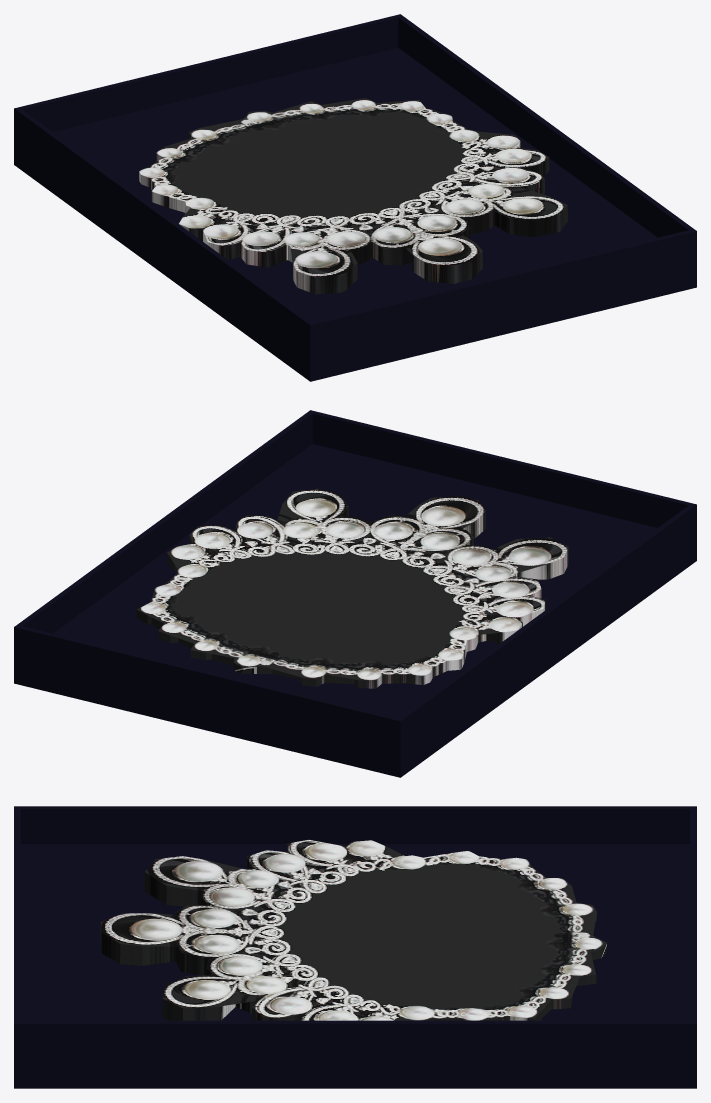
File: jewelry02.FBX
3 views of the same model, one above another, from view 1: azimuth 30°, elevation 25°; view 2: azimuth 150°, elevation 25°; view 3: azimuth 270°, elevation 25° (orthographic). The views are drawn at different scales.
Parts seen in each view (by area): view 1: Box001, Line002; view 2: Box001, Line002; view 3: Box001, Line002.
Boxes of the visible parts, x1,y1,x2,y2 form: Box001: [14, 14, 696, 381]; Line002: [139, 98, 567, 294]; Box001: [14, 410, 696, 777]; Line002: [136, 488, 568, 688]; Box001: [14, 806, 696, 1088]; Line002: [100, 840, 606, 1020].
Size of the model in its own units: 30.2 by 40.12 by 4.21.
Materials: 2 (1 with a texture image).
